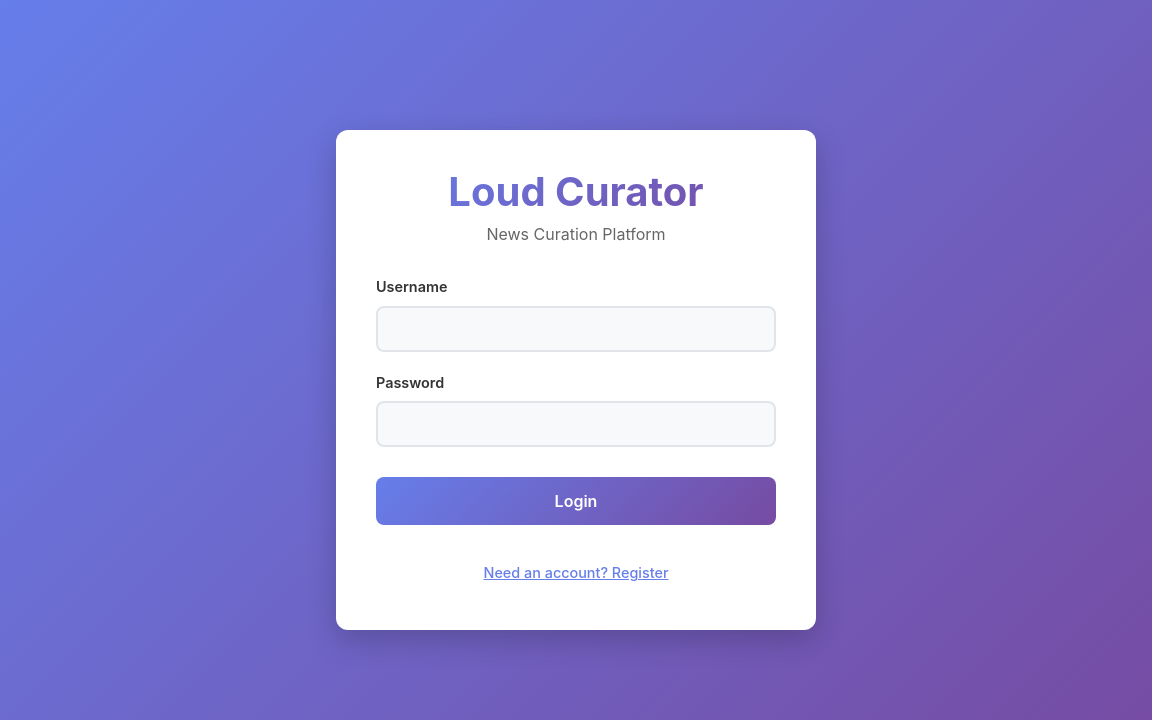
Test: Login Component › Form Interactions › toggles between login and register modes
What coordinates should you click on to do the following:
click the button "Need an account? Register"
I would click on:
 (576, 573)
Its box is [466, 556, 686, 590].
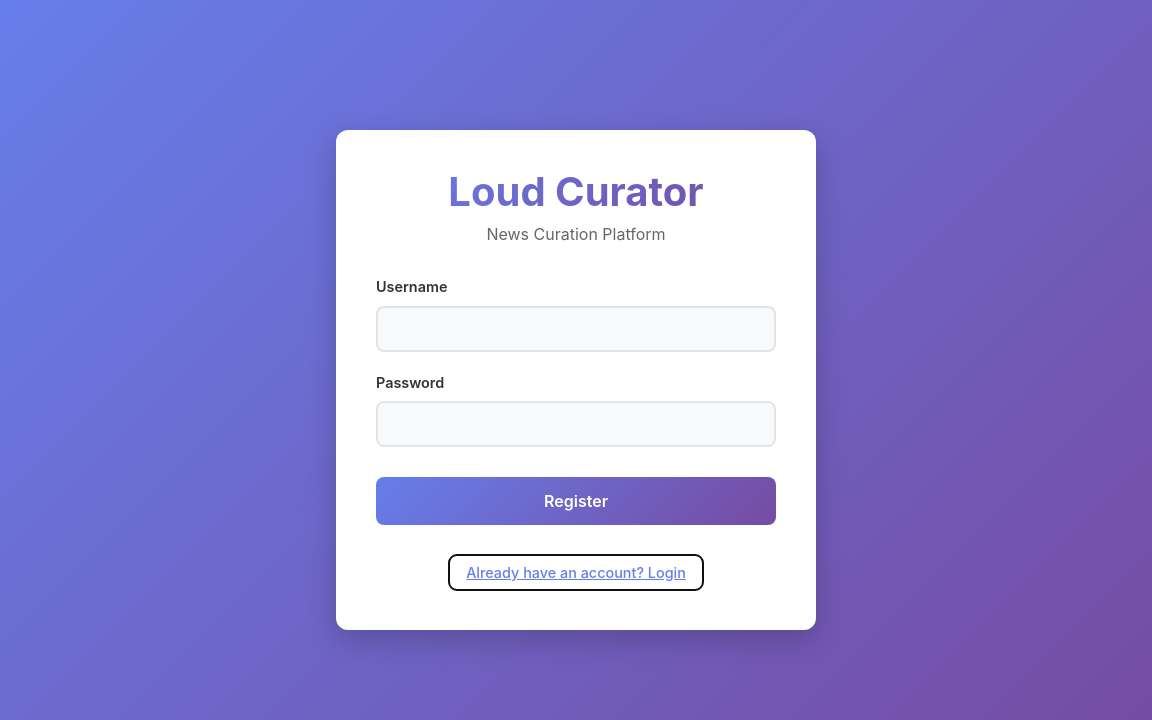
Expected: the button "Register" is shown, [376, 478, 776, 526]
Expected: the button "Already have an account? Login" is shown
What coordinates should you click on to do the following:
click the button "Already have an account? Login"
I would click on:
 (576, 573)
Its box is [449, 556, 703, 590].
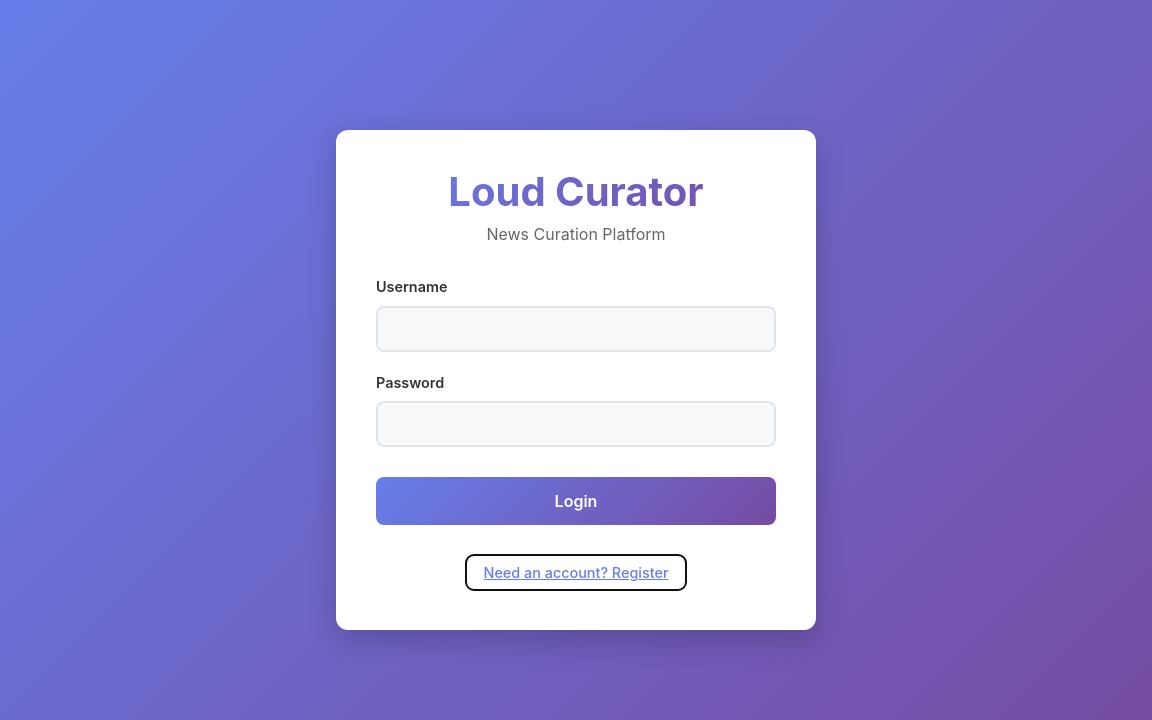
Expected: the button "Login" is shown, [376, 478, 776, 526]
Expected: the button "Need an account? Register" is shown, [466, 556, 686, 590]
